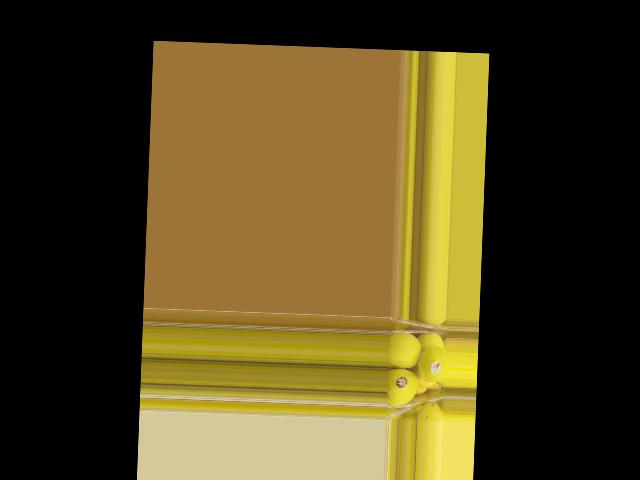apple: (417, 344, 446, 386)
